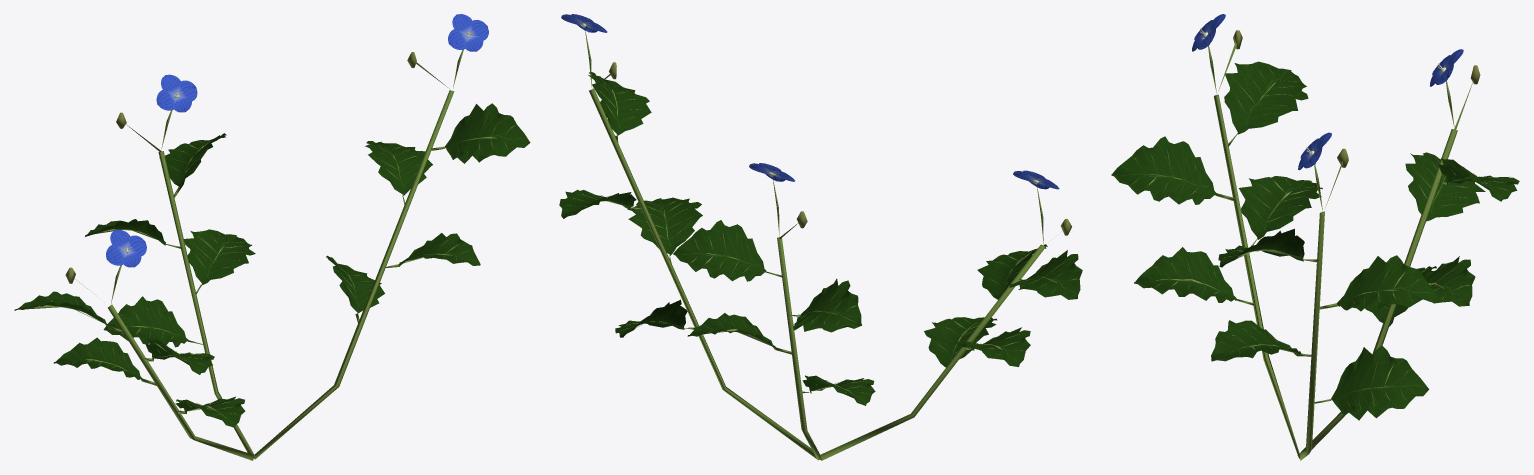
File: persian-speedwell.glb
3 views of the same model, side by side, from view 1: azimuth 30°, elevation 25°; view 2: azimuth 150°, elevation 25°; view 3: azimuth 270°, elevation 25° (orthographic). The views are drawn at different scales.
Parts seen in each view (by area): view 1: leaves, stems, four_lobed_corollas, leaf_secondary_veins, leaf_midribs; view 2: leaves, stems, four_lobed_corollas, leaf_secondary_veins; view 3: leaves, stems, four_lobed_corollas, leaf_secondary_veins, leaf_midribs, buds.
Part boxes in pixels (bbox=[...]): leaves: bbox=[14, 103, 530, 427]; stems: bbox=[74, 49, 463, 460]; four_lobed_corollas: bbox=[106, 14, 488, 267]; leaf_secondary_veins: bbox=[34, 120, 514, 416]; leaf_midribs: bbox=[26, 137, 497, 425]; leaves: bbox=[559, 72, 1082, 405]; stems: bbox=[585, 29, 1045, 460]; four_lobed_corollas: bbox=[561, 14, 1059, 189]; leaf_secondary_veins: bbox=[566, 76, 1077, 393]; leaves: bbox=[1111, 61, 1519, 420]; stems: bbox=[1208, 42, 1473, 460]; four_lobed_corollas: bbox=[1192, 14, 1463, 170]; leaf_secondary_veins: bbox=[1132, 66, 1509, 410]; leaf_midribs: bbox=[1135, 82, 1487, 389]; buds: bbox=[1233, 30, 1480, 167].
Bounding box in the file's own units: 0.127 × 0.0956 × 0.0784.
Materials: 7 (2 with a texture image).
